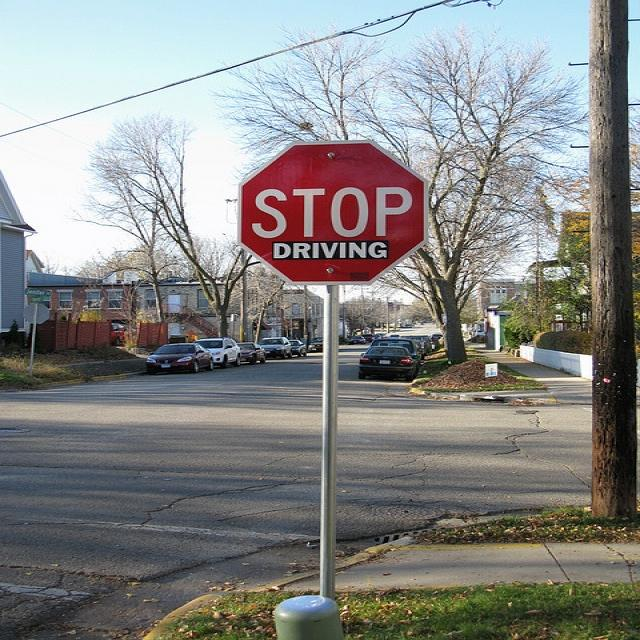car: (355, 343, 417, 381), (144, 341, 212, 374), (191, 335, 241, 368), (256, 335, 291, 358), (369, 337, 415, 353), (236, 340, 265, 363), (287, 338, 305, 356), (306, 335, 322, 351), (347, 335, 364, 343), (360, 332, 375, 341)
pole: (311, 283, 348, 596)
